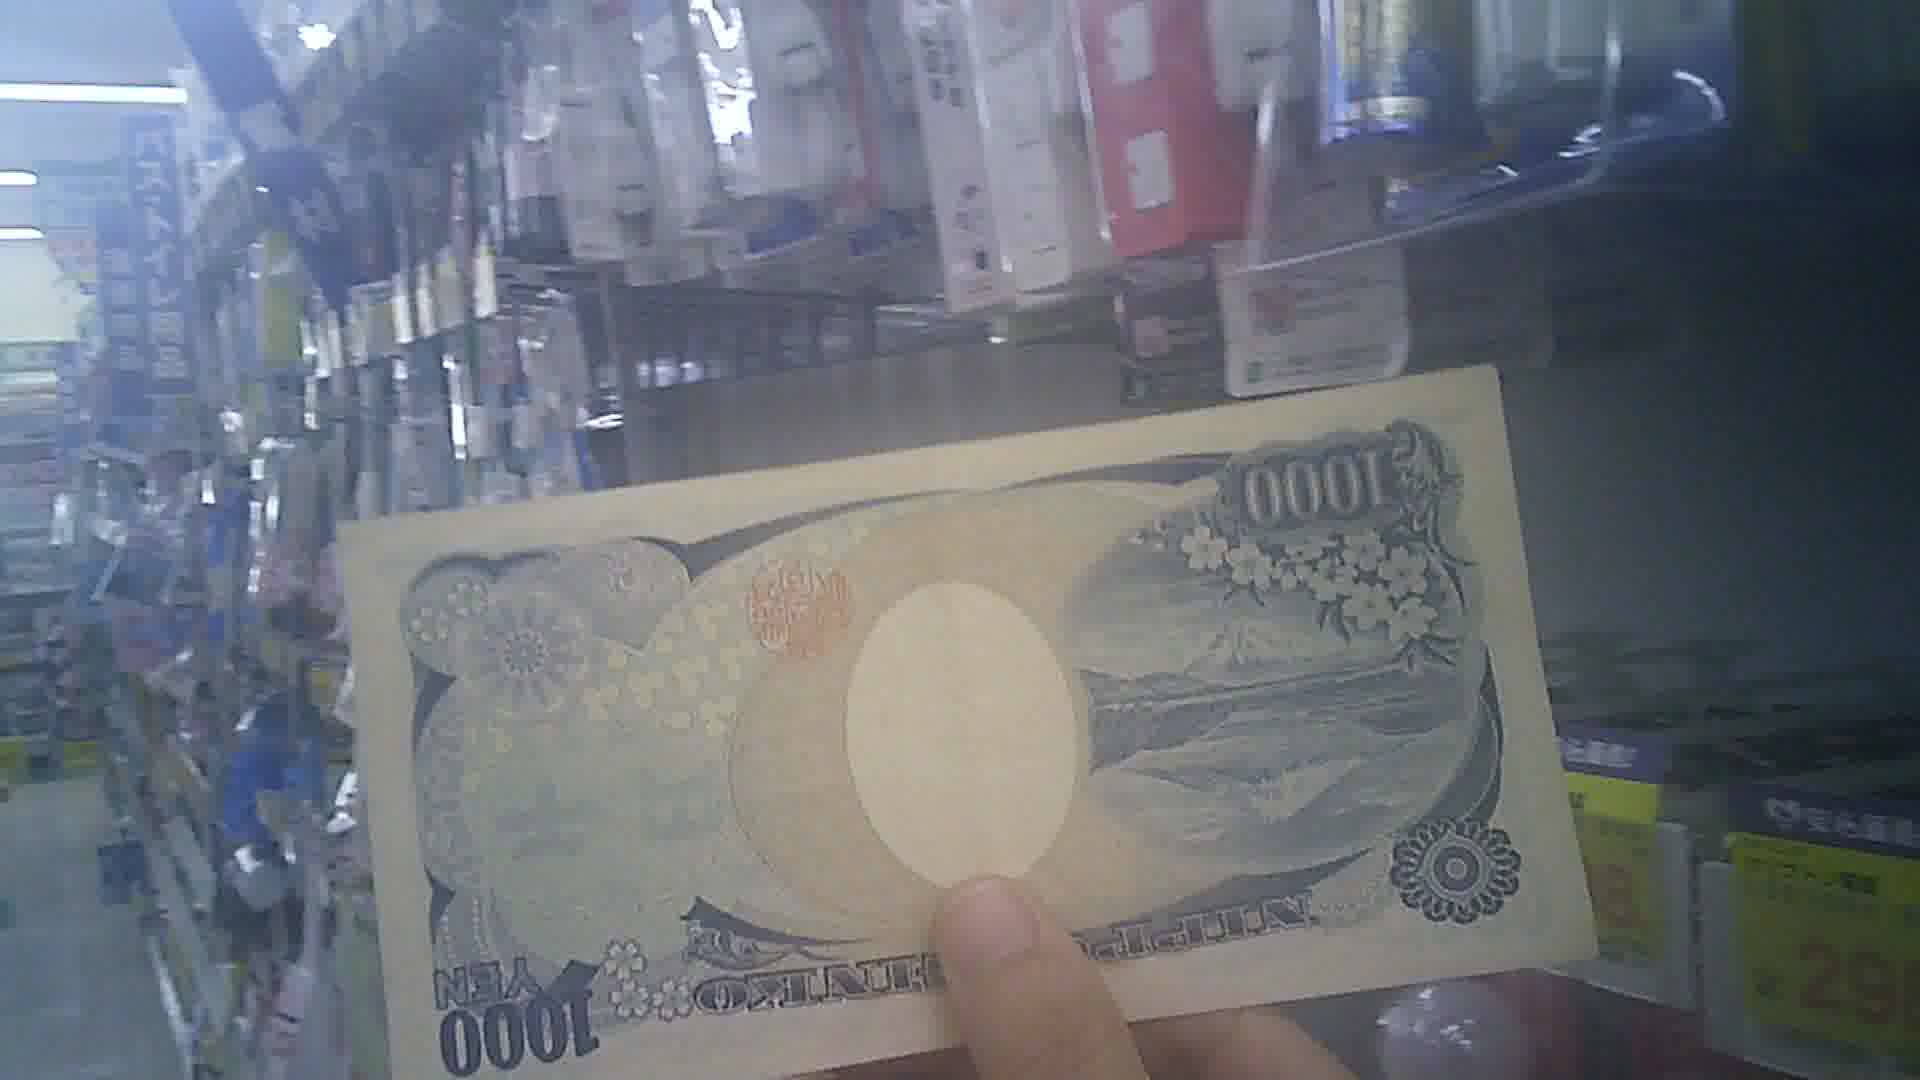1,000 Yen: (327, 375, 1611, 1079)
